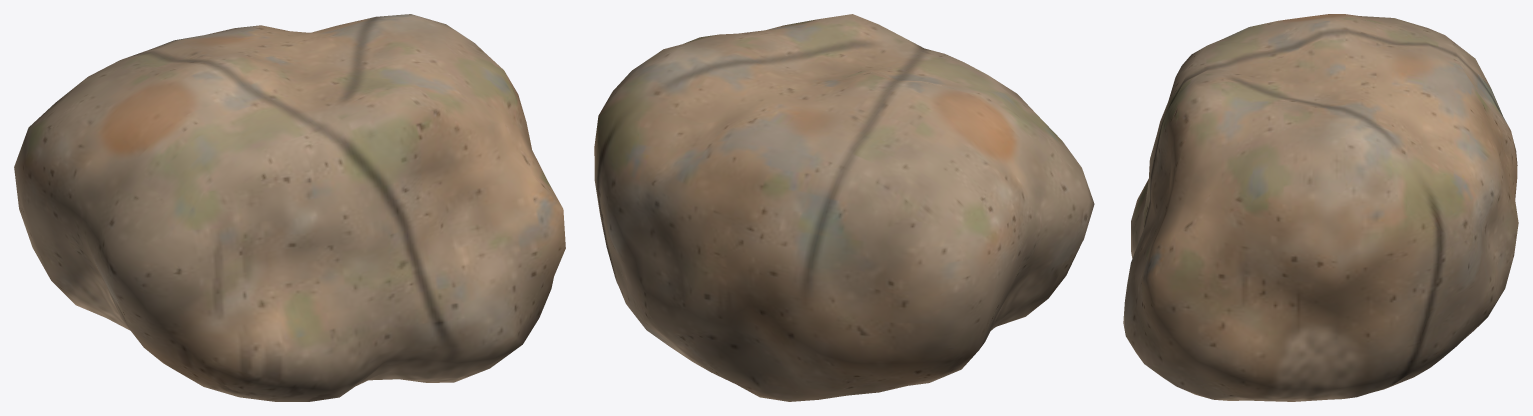
The model's file is rock_e.glb.
3 views of the same model, side by side, from view 1: azimuth 30°, elevation 25°; view 2: azimuth 150°, elevation 25°; view 3: azimuth 270°, elevation 25° (orthographic). The views are drawn at different scales.
Parts seen in each view (by area): view 1: rock_e; view 2: rock_e; view 3: rock_e.
Part boxes in pixels (box(x1,y1,x2,y2)): rock_e: box(14, 14, 565, 401); rock_e: box(594, 14, 1094, 401); rock_e: box(1123, 14, 1518, 401).
Size of the model in its own units: 0.2969 by 0.1944 by 0.2469.
Materials: 1 (1 with a texture image).
